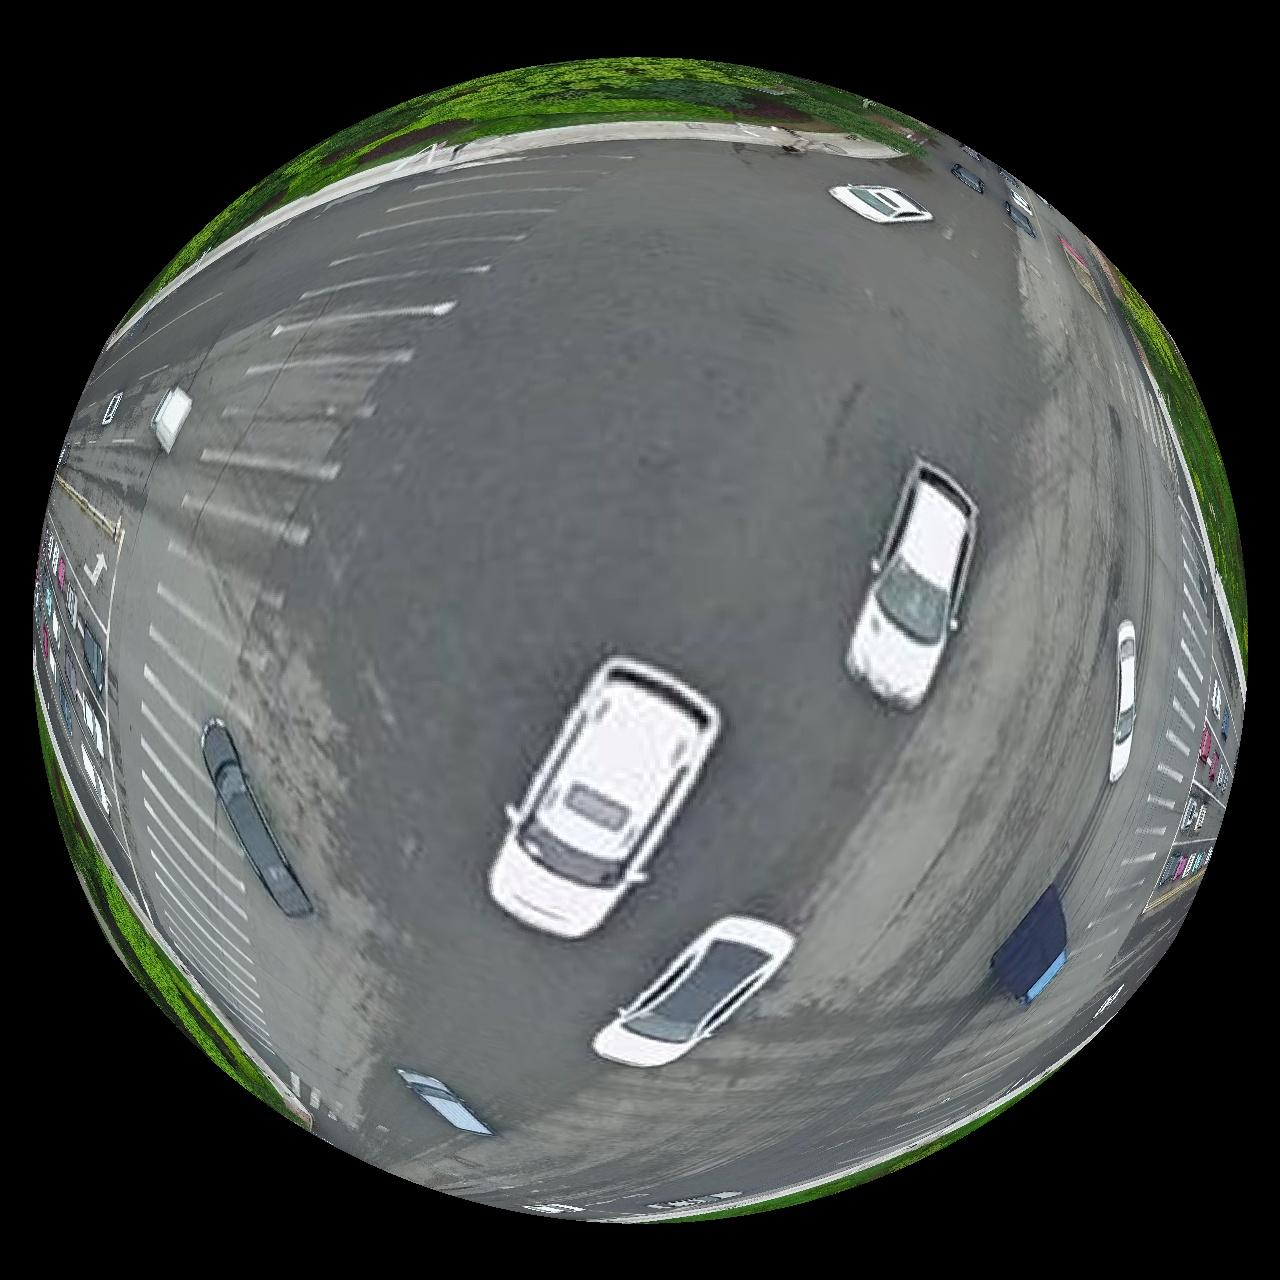cars: (488, 656, 722, 940), (847, 459, 980, 710), (594, 917, 795, 1069), (200, 719, 311, 919), (993, 886, 1070, 1007), (397, 1071, 493, 1137), (1111, 620, 1141, 783), (831, 183, 935, 223), (149, 386, 191, 452), (98, 389, 122, 425)
trees: (151, 56, 939, 288), (40, 719, 298, 1122), (1089, 239, 1251, 665), (636, 1111, 1002, 1226)
